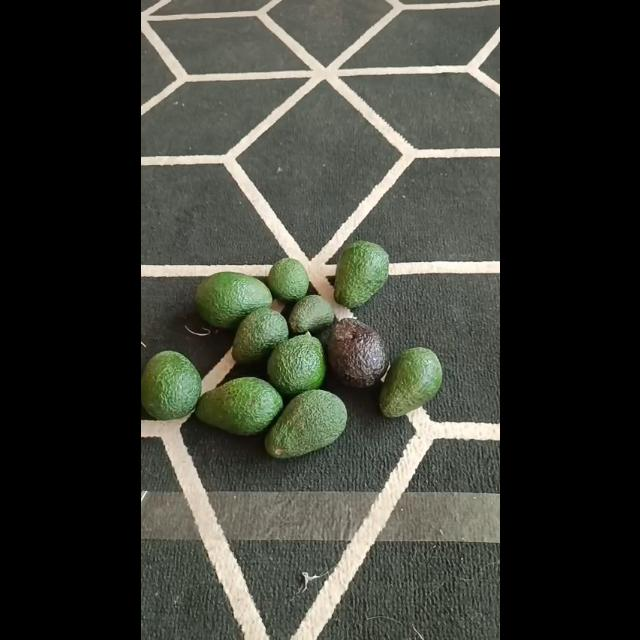Primera: (264, 388, 348, 458), (193, 376, 283, 434), (379, 346, 441, 416), (325, 317, 387, 387), (193, 271, 270, 327), (140, 350, 200, 420), (266, 331, 326, 395), (333, 240, 389, 308)
Segunda: (232, 307, 288, 363), (267, 257, 309, 301)
Tercera: (288, 294, 334, 334)
